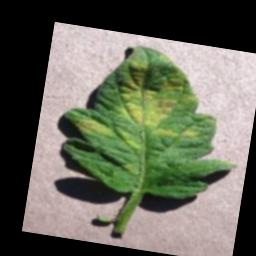Leaf_Mold: (106, 47, 209, 143), (67, 114, 114, 138)
